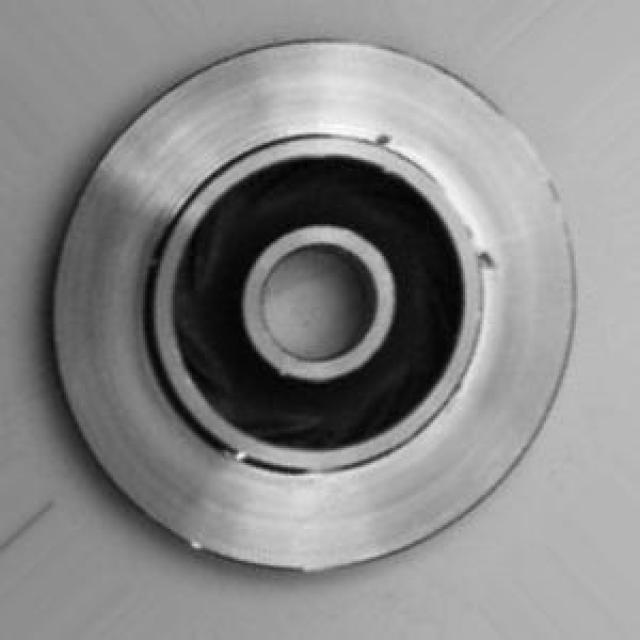Defect: (364, 119, 409, 157)
